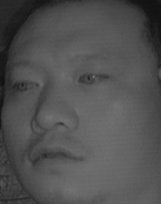eye: (75, 65, 110, 89), (11, 74, 42, 95)
mouth: (26, 139, 82, 172)
